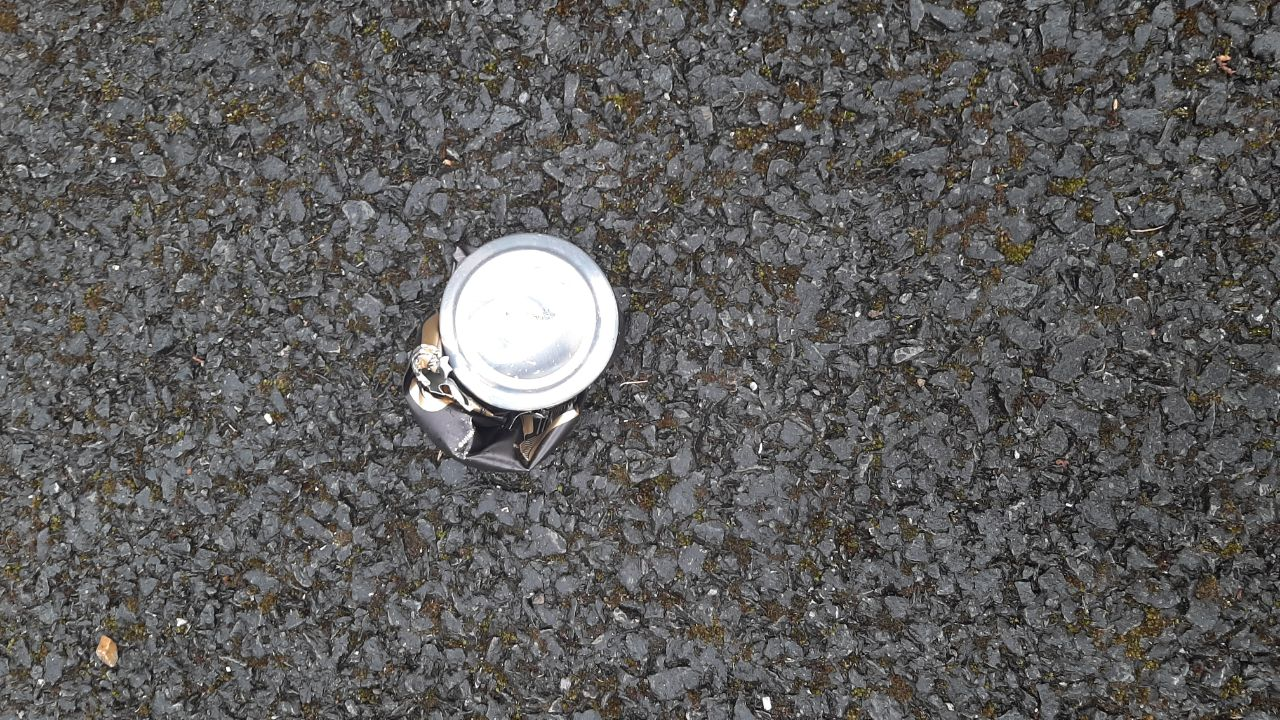Can: (403, 232, 622, 472)
